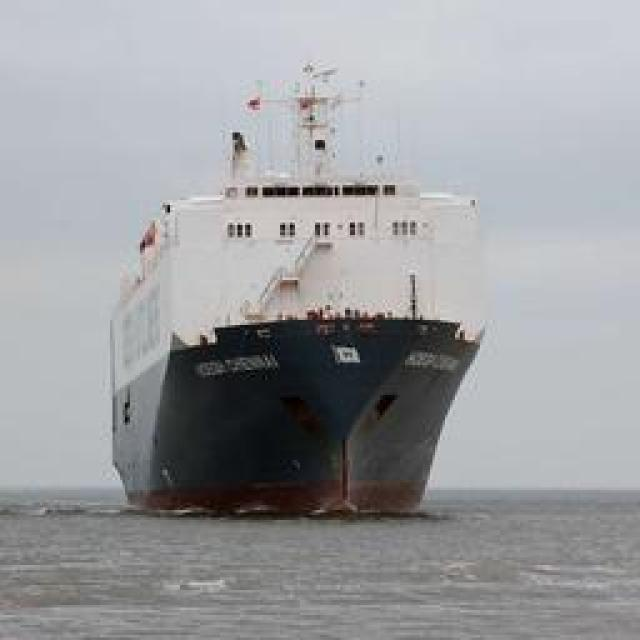CIV_Ship: (110, 132, 498, 530)
